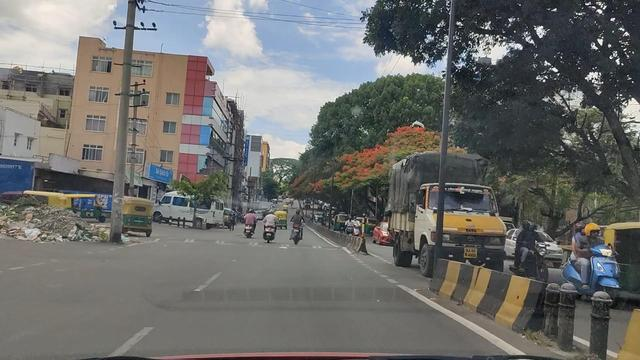LMV: (267, 212, 287, 245), (239, 208, 258, 237), (295, 211, 306, 241)
